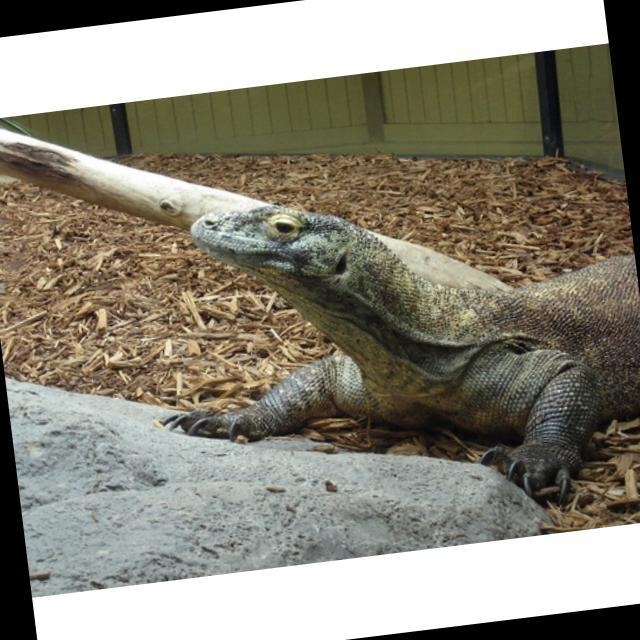KomodoDragon: (131, 156, 640, 543)
